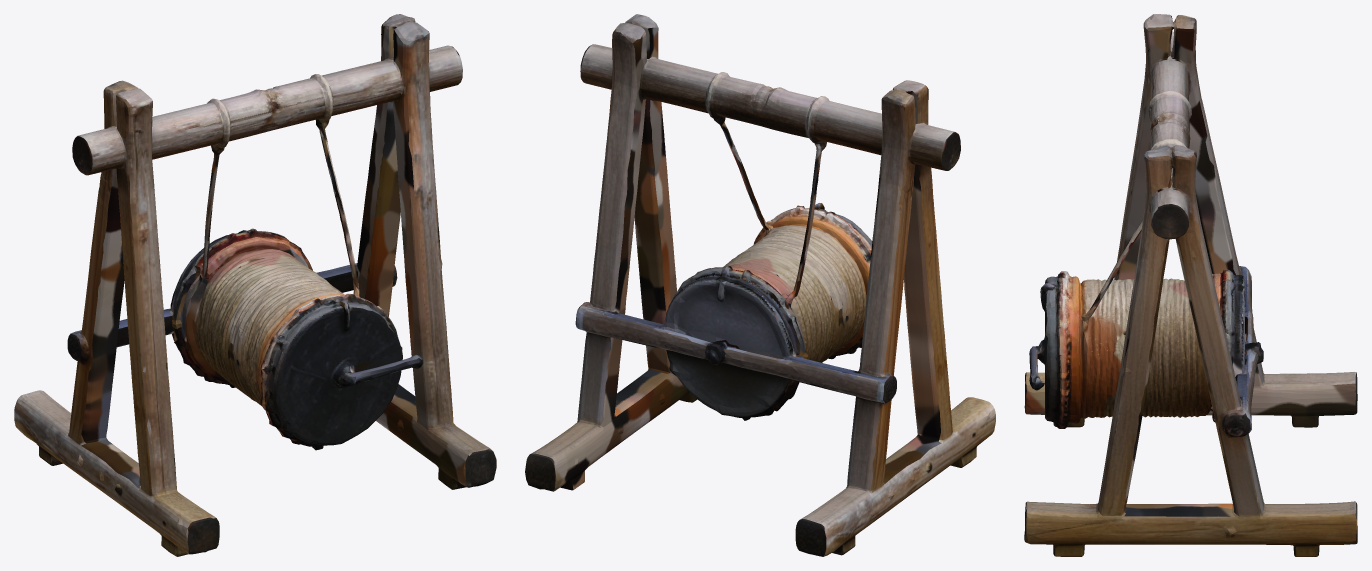
File: traveler_env_coast_shadowlands_watchpost_winch_00001_.glb
The picture shows the model from 3 angles, left to right: view 1: azimuth 30°, elevation 25°; view 2: azimuth 150°, elevation 25°; view 3: azimuth 270°, elevation 25°; orthographic projection. The views are drawn at different scales.
Visible parts, largest first — view 1: temp_mesh.ply; view 2: temp_mesh.ply; view 3: temp_mesh.ply.
Part boxes in pixels (box(x1,y1,x2,y2)): temp_mesh.ply: box(14, 14, 496, 556); temp_mesh.ply: box(525, 14, 995, 556); temp_mesh.ply: box(1024, 14, 1357, 556).
Bounding box in the file's own units: 1.82 × 1.97 × 1.48.
Materials: 1 (1 with a texture image).
